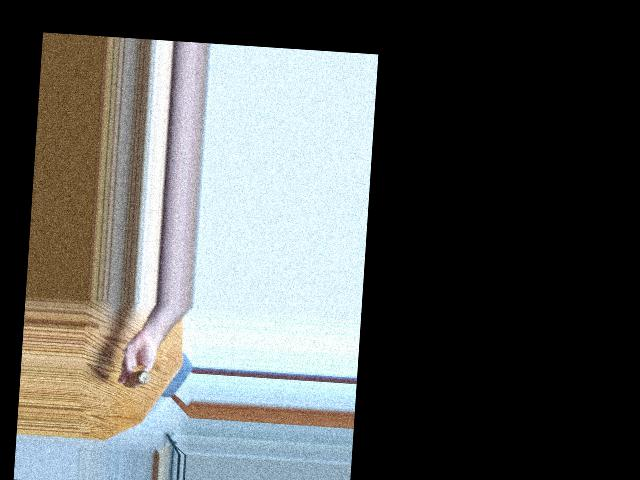sweet_potato: (121, 364, 154, 390)
